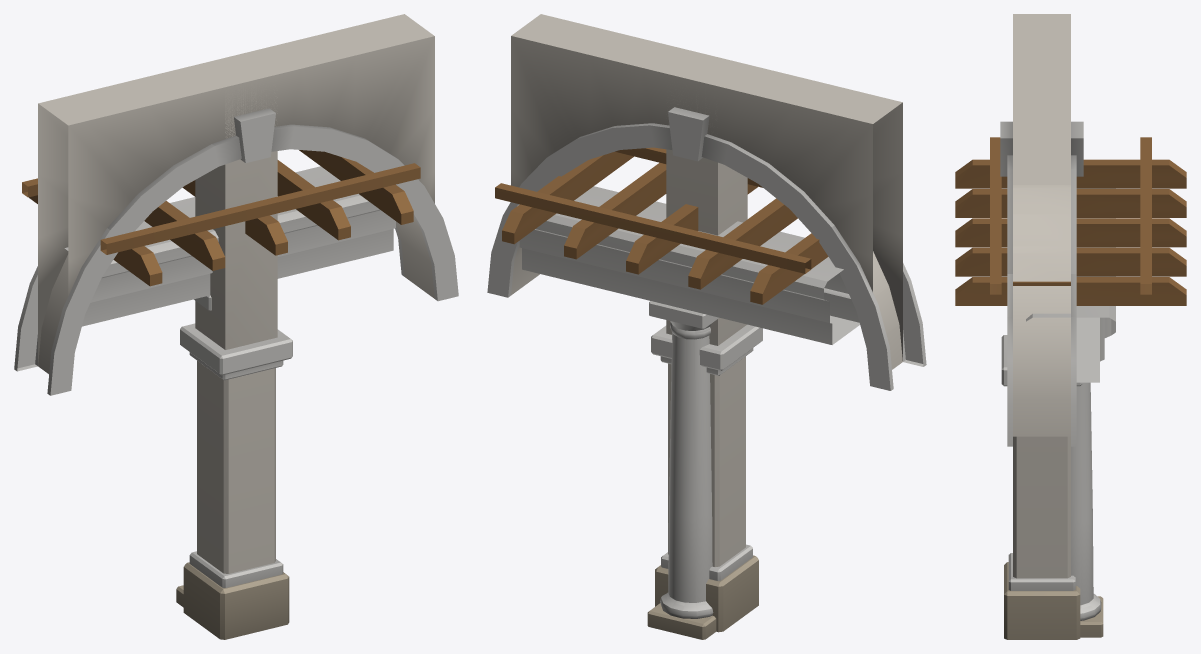
3 views of the same model, side by side, from view 1: azimuth 30°, elevation 25°; view 2: azimuth 150°, elevation 25°; view 3: azimuth 270°, elevation 25° (orthographic). The views are drawn at different scales.
Visible parts, largest first — view 1: arcade_bay_4m, arcade_pier, colonnade_bay_3m; view 2: arcade_bay_4m, colonnade_bay_3m, arcade_pier, column_tuscan_3m; view 3: arcade_bay_4m, colonnade_bay_3m, arcade_pier, column_tuscan_3m.
Part boxes in pixels (x1,y1,x2,y2): arcade_bay_4m: [14, 14, 458, 395]; arcade_pier: [180, 52, 292, 639]; colonnade_bay_3m: [22, 150, 420, 326]; arcade_bay_4m: [487, 14, 926, 390]; colonnade_bay_3m: [495, 147, 859, 344]; arcade_pier: [651, 58, 762, 632]; column_tuscan_3m: [647, 301, 718, 639]; arcade_bay_4m: [1000, 14, 1083, 446]; colonnade_bay_3m: [955, 137, 1186, 382]; arcade_pier: [1001, 87, 1082, 639]; column_tuscan_3m: [1071, 320, 1103, 637].
Size of the model in its own units: 3.9 by 5 by 2.
